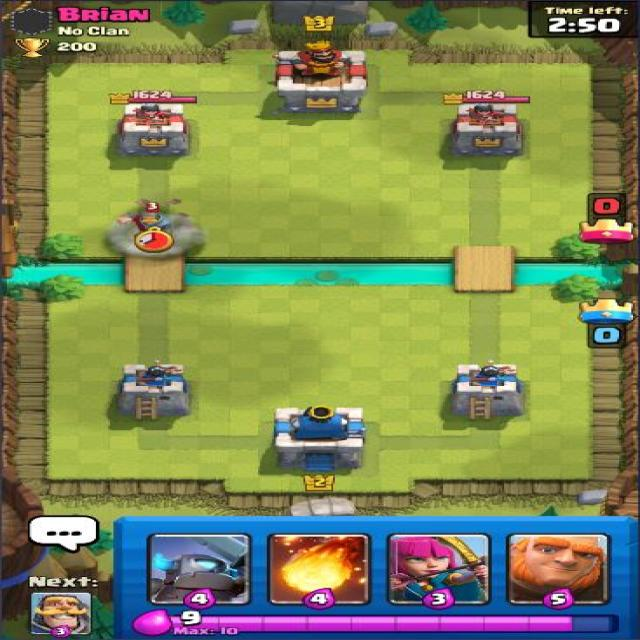Enemy-Knight: (113, 202, 178, 247)
